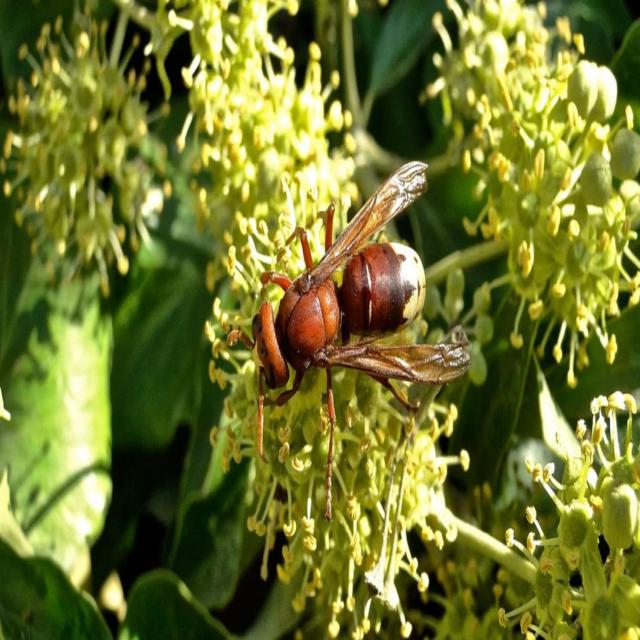Vespa Orientalis: (213, 140, 484, 507)
